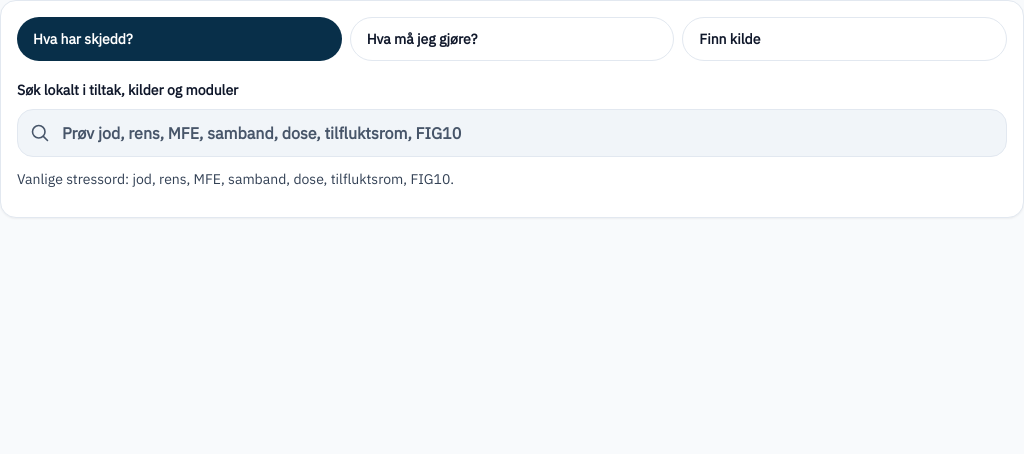
Test case: shows card review state reviewed separately from source state
In the search field: coordinates (526, 133) 58,111 -> 994,155, type "pumpe"
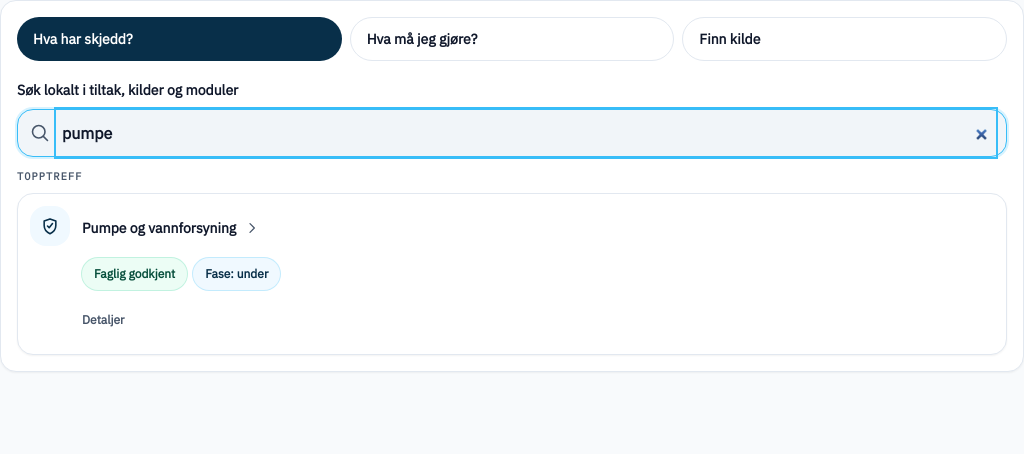
Expected: the text "Faglig godkjent" is shown, 94,266 -> 175,282
Click the heading "Detaljer": coordinates (103, 319) 82,312 -> 124,327
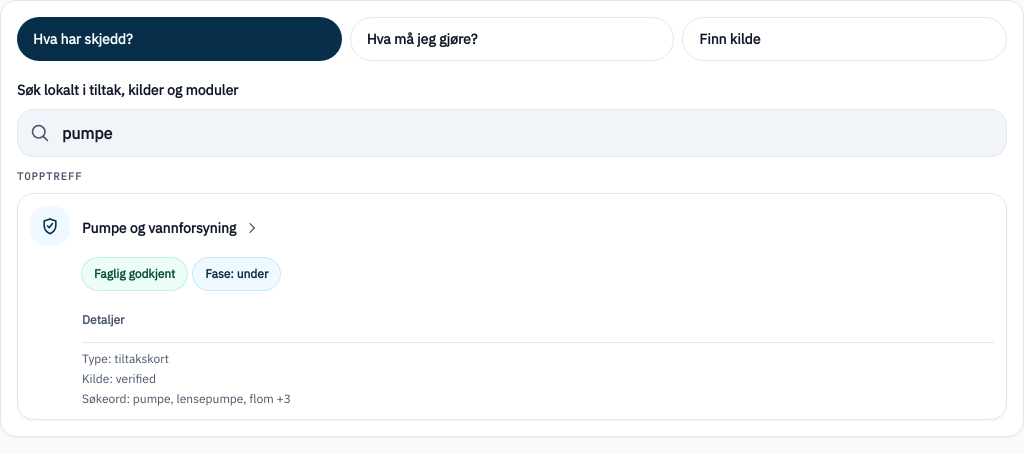
Expected: the text "Kilde: verified" is shown, 82,371 -> 156,386
